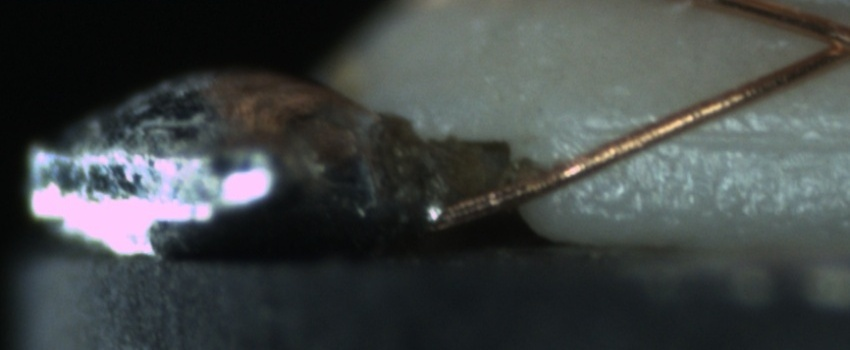CL: (800, 13, 850, 73)
DL: (576, 103, 842, 170)
